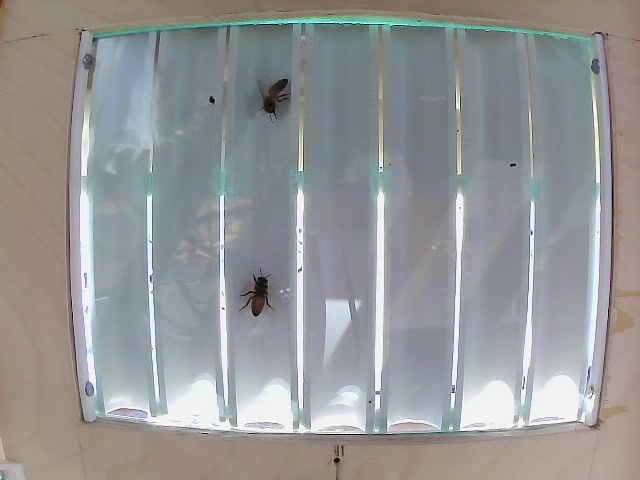bee: (228, 271, 293, 321), (258, 64, 289, 108)
